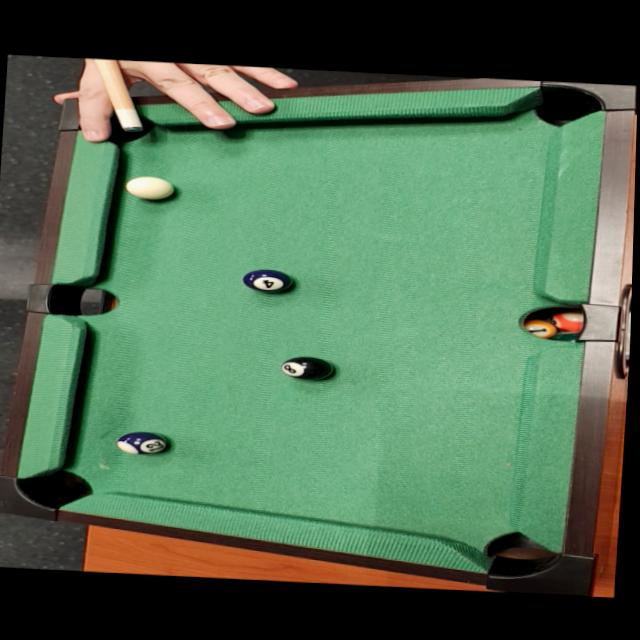cue ball: (125, 171, 177, 200)
other: (277, 353, 339, 383), (111, 426, 173, 455), (240, 265, 296, 294)
